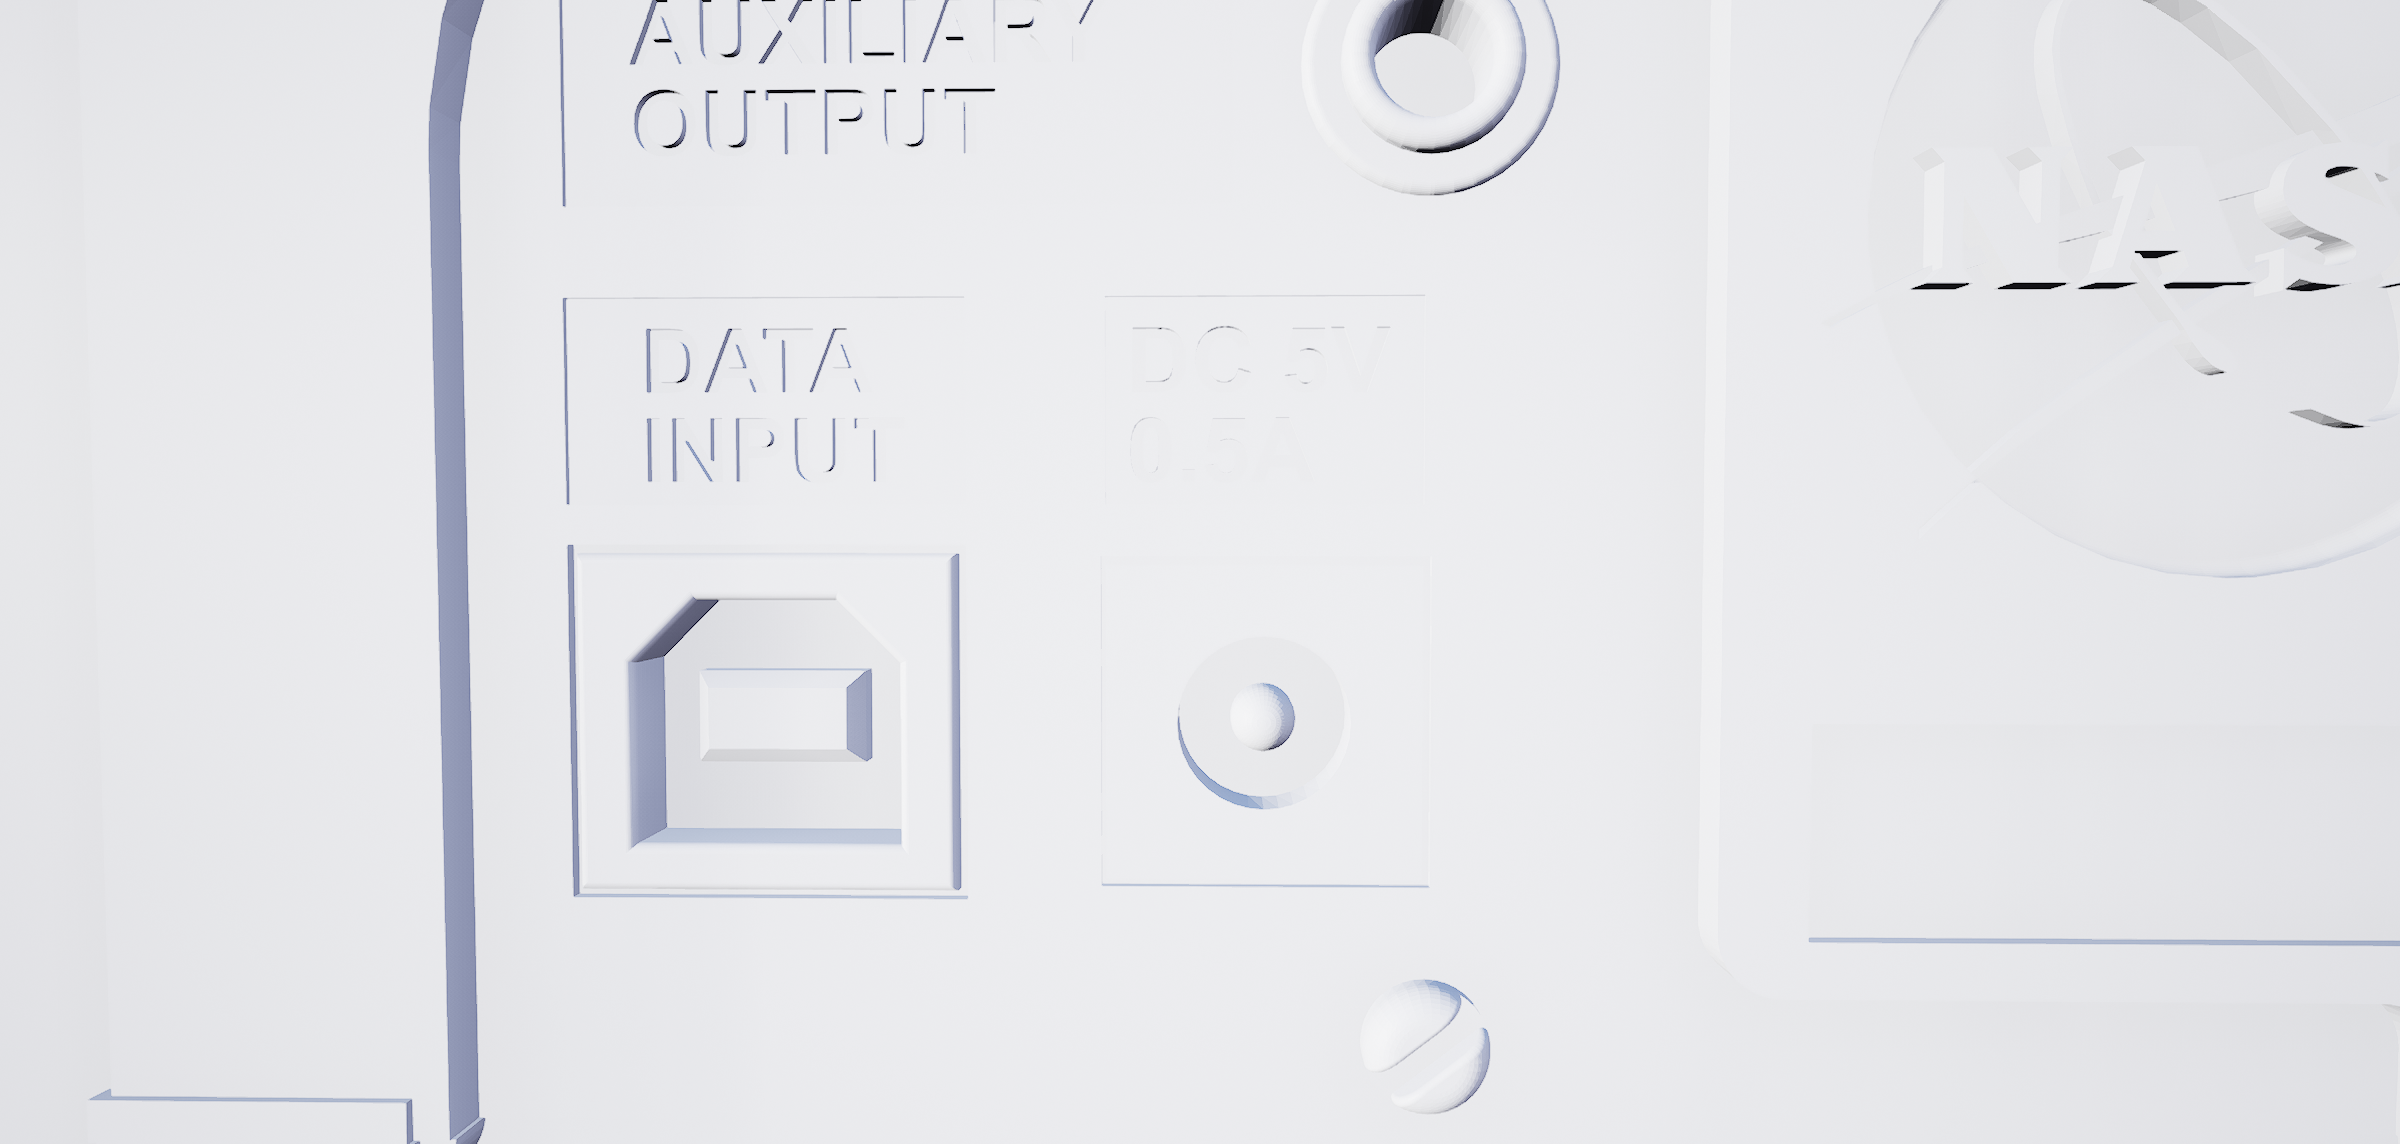aux: (1290, 2, 1570, 219)
dc: (1169, 620, 1368, 827)
usb: (605, 582, 923, 862)
